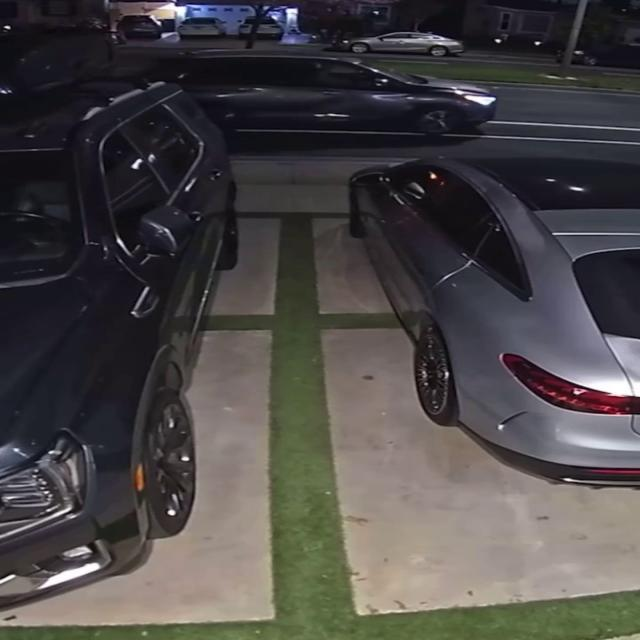Theft - Alert: (349, 149, 639, 488), (300, 58, 497, 135)
